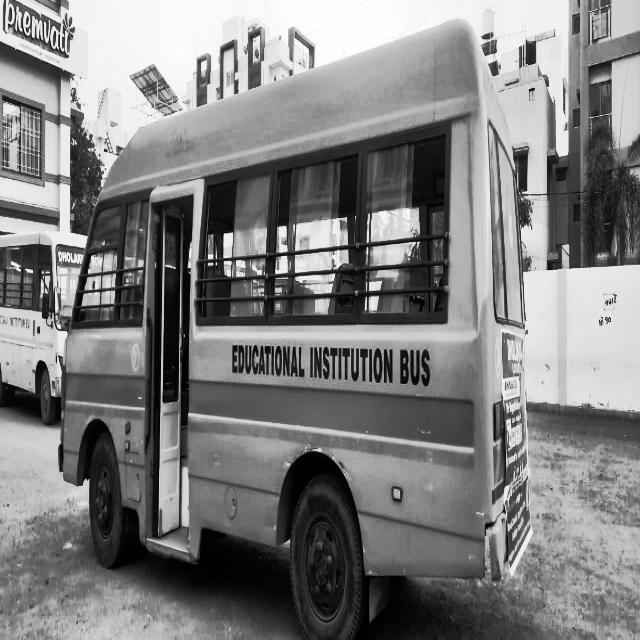Bus: (61, 114, 509, 619), (2, 231, 80, 405)
